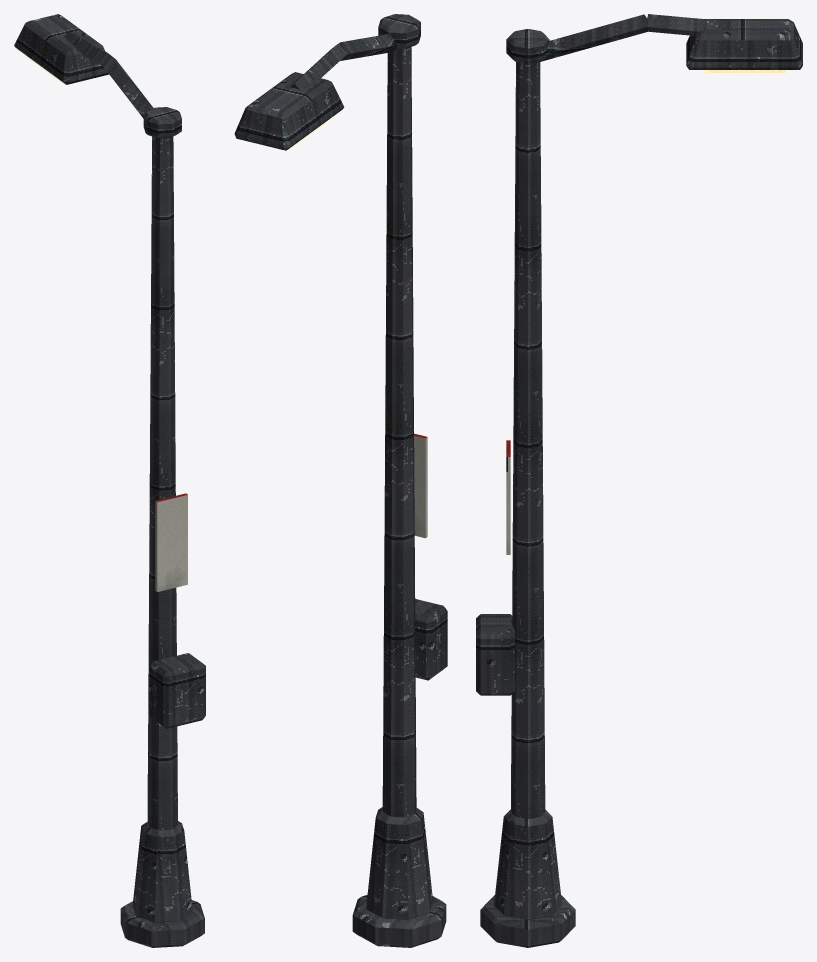
The model's file is prop_lamp_post.glb.
3 views of the same model, side by side, from view 1: azimuth 30°, elevation 25°; view 2: azimuth 150°, elevation 25°; view 3: azimuth 270°, elevation 25° (orthographic). The views are drawn at different scales.
Visible parts, largest first — view 1: prop_lamp_post_mesh; view 2: prop_lamp_post_mesh; view 3: prop_lamp_post_mesh.
Part boxes in pixels (x1,y1,x2,y2): prop_lamp_post_mesh: (14, 14, 205, 947); prop_lamp_post_mesh: (234, 14, 447, 947); prop_lamp_post_mesh: (476, 14, 802, 947).
Bounding box in the file's own units: 0.44 × 4.66 × 1.51.
3 materials, 3 textured.
